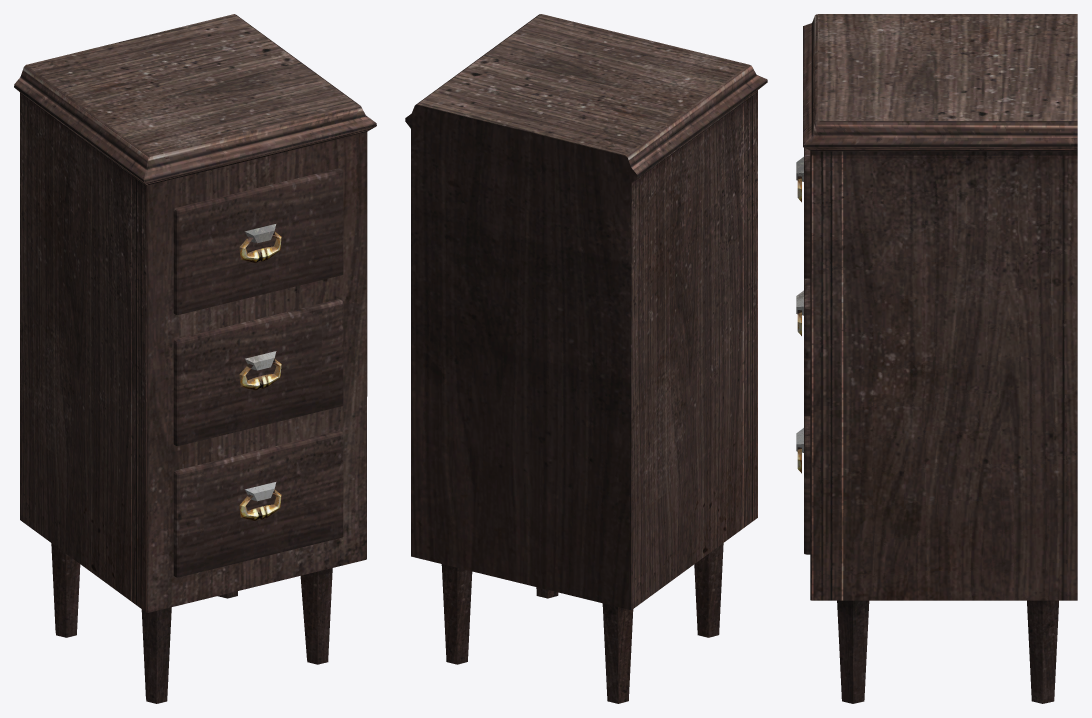
The model's file is endTable03.FBX.
The picture shows the model from 3 angles, left to right: view 1: azimuth 30°, elevation 25°; view 2: azimuth 150°, elevation 25°; view 3: azimuth 270°, elevation 25°; orthographic projection. The views are drawn at different scales.
Visible parts, largest first — view 1: SM_EndTable03; view 2: SM_EndTable03; view 3: SM_EndTable03.
Boxes of the visible parts, x1,y1,x2,y2 form: SM_EndTable03: (14,14,376,703); SM_EndTable03: (405,14,767,703); SM_EndTable03: (796,14,1077,703).
Bounding box in the file's own units: 38.39 × 88.49 × 38.28.
1 material, 1 textured.
